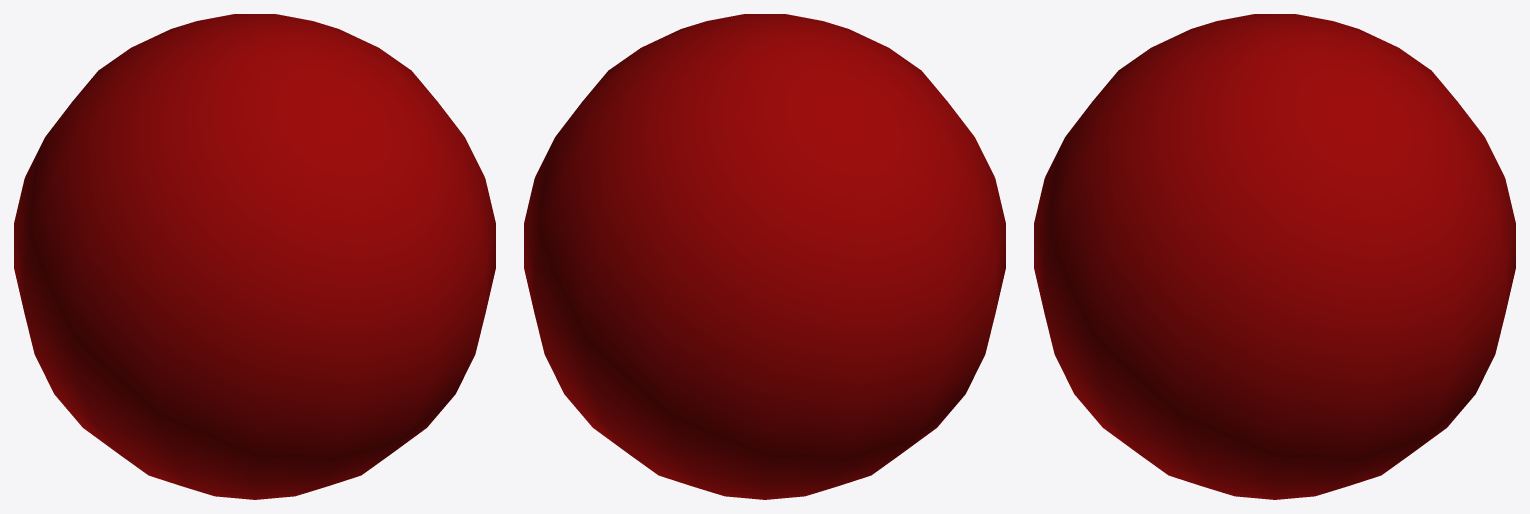
File: Projectile.fbx
3 renders of one model, left to right at view 1: azimuth 30°, elevation 25°; view 2: azimuth 150°, elevation 25°; view 3: azimuth 270°, elevation 25°, orthographic.
Visible parts, largest first — view 1: pSphere1; view 2: pSphere1; view 3: pSphere1.
Boxes of the visible parts, bbox=[...] form: pSphere1: bbox=[14, 14, 495, 499]; pSphere1: bbox=[524, 14, 1005, 499]; pSphere1: bbox=[1034, 14, 1515, 499].
Size of the model in its own units: 9.84 by 10 by 9.89.
